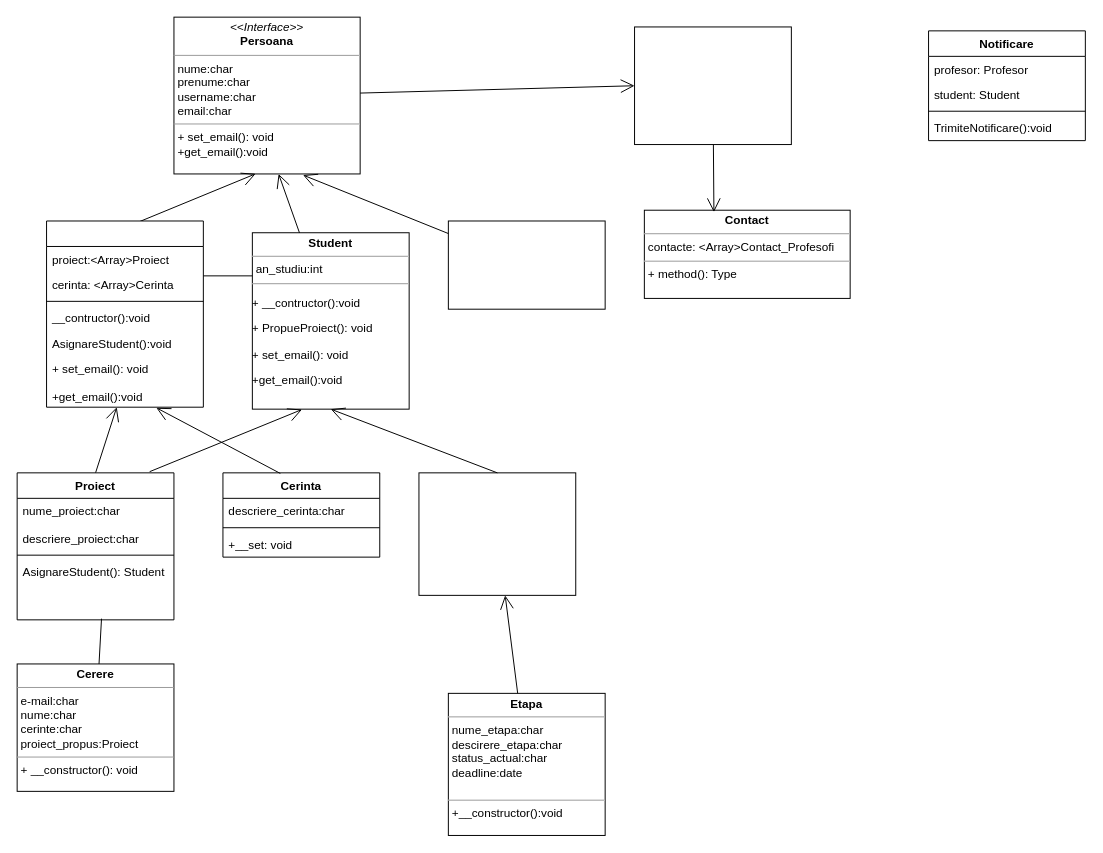
The diagram is 1103 pixels wide and 853 high, and some of its shapes have lost their labels. Each missing label, with the box of its shape:
Admin departament:string + __contructor():void: (447, 220, 605, 309)
Contact_Profesori interese:char office:char homepage:char + __contructor():void: (634, 26, 791, 145)
Profesor: (46, 220, 203, 407)
Profil grupa:int program_studiu: cha etape: <Array>Etapa + method(): Type: (418, 472, 576, 595)
